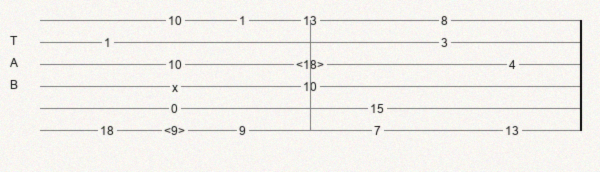0: (171, 102, 182, 115)
1: (104, 36, 115, 49), (239, 14, 250, 27)
10: (168, 14, 186, 27), (168, 58, 186, 71), (303, 80, 321, 93)
13: (303, 14, 321, 27), (505, 124, 523, 137)
15: (370, 102, 388, 115)
18: (100, 124, 118, 137)
3: (441, 36, 452, 49)
4: (509, 58, 520, 71)
7: (374, 124, 385, 137)
8: (441, 14, 452, 27)
9: (239, 124, 250, 137)
harmonic: (296, 58, 328, 71), (164, 124, 189, 137)
x: (172, 81, 182, 92)
